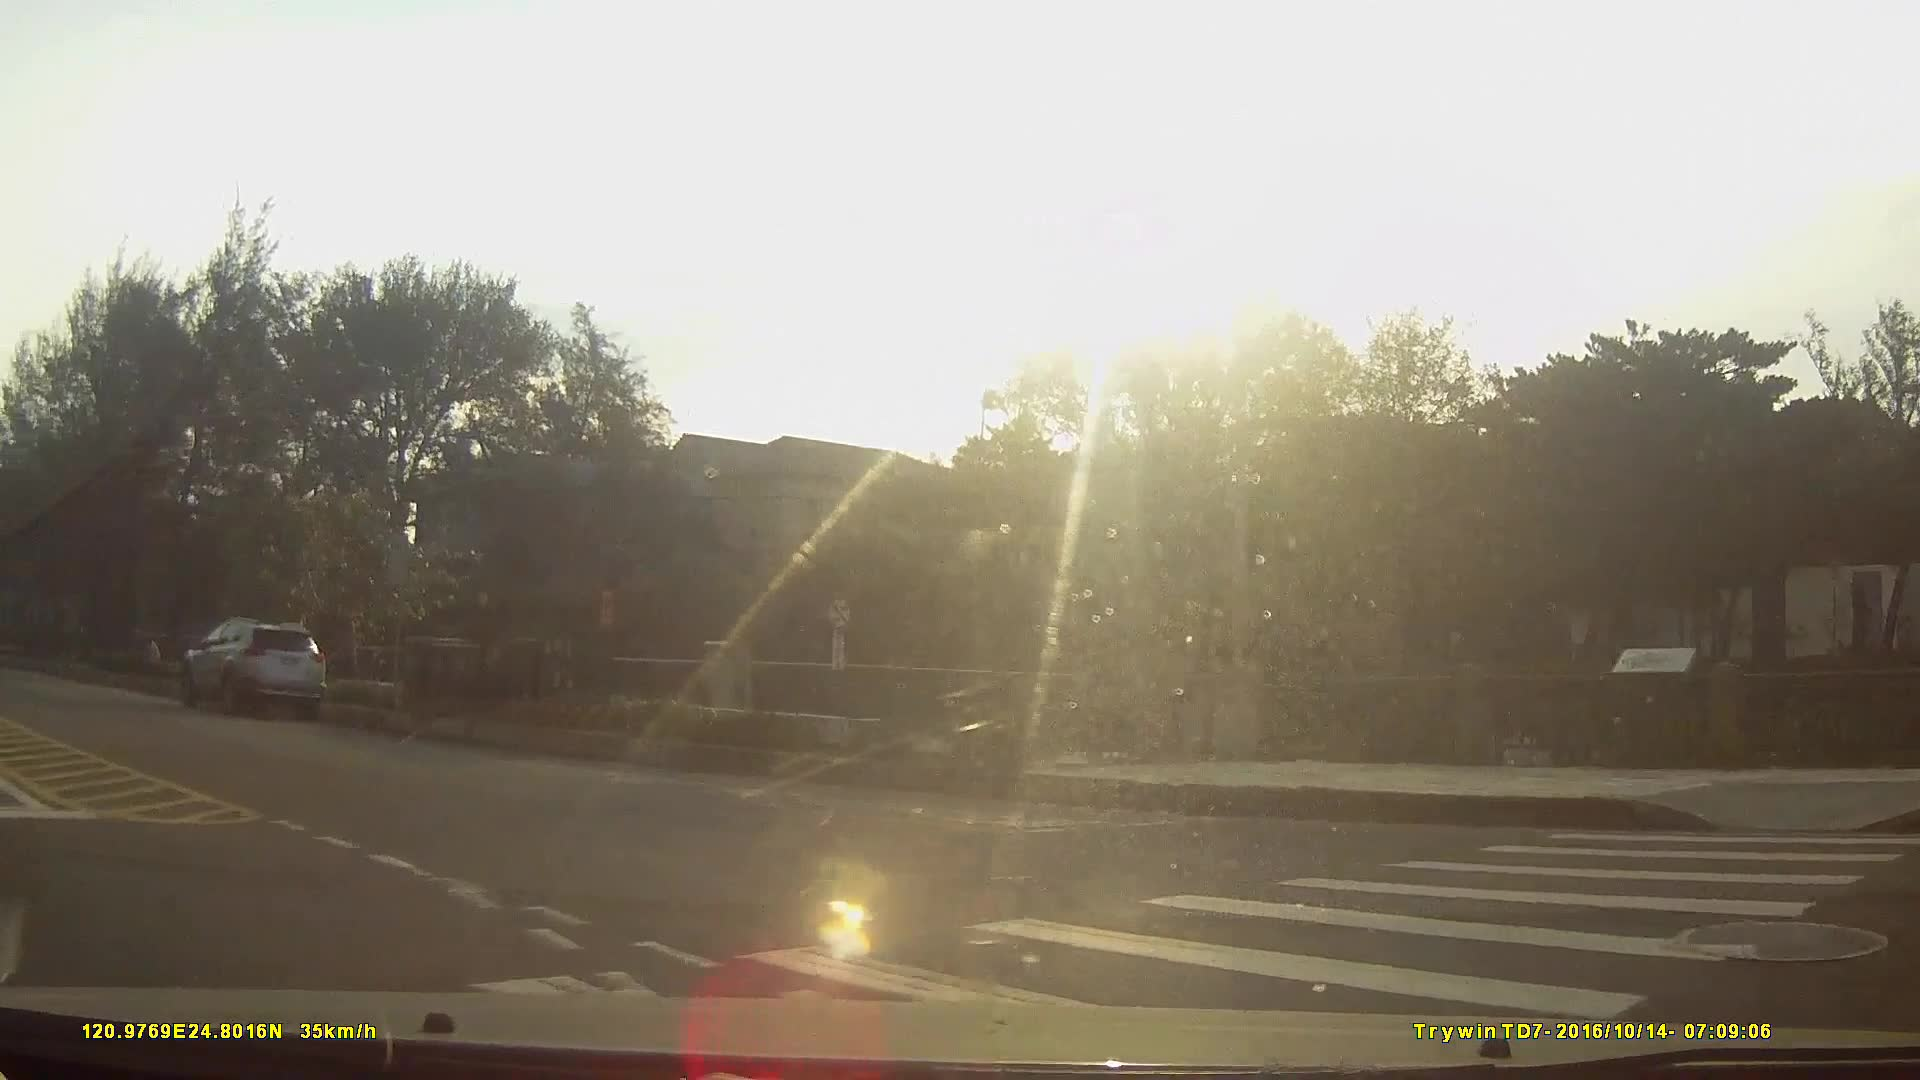vehicle: (178, 613, 324, 719)
